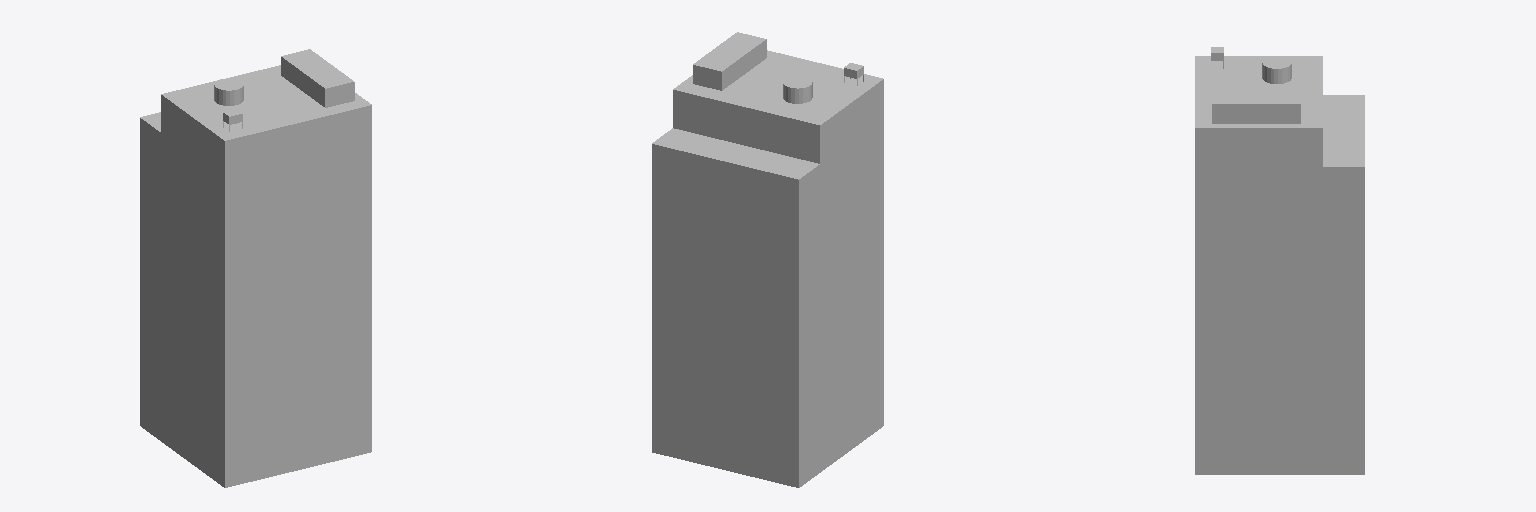
The model's file is highrise-4.obj.
The picture shows the model from 3 angles: view 1: azimuth 30°, elevation 25°; view 2: azimuth 150°, elevation 25°; view 3: azimuth 270°, elevation 25°; orthographic projection.
Visible parts, largest first — view 1: Mesh.022_SketchUp_ID2.003, Mesh.020_SketchUp.006_ID2.002, Mesh.003_SketchUp_ID2, Mesh.021_SketchUp.001_ID10.003, Mesh.016_SketchUp.004_ID2.000, Mesh.023_SketchUp.003_ID22.002; view 2: Mesh.003_SketchUp_ID2, Mesh.022_SketchUp_ID2.003, Mesh.016_SketchUp.004_ID2.000, Mesh.020_SketchUp.006_ID2.002, Mesh.021_SketchUp.001_ID10.003, Mesh.023_SketchUp.003_ID22.002; view 3: Mesh.022_SketchUp_ID2.003, Mesh.003_SketchUp_ID2, Mesh.020_SketchUp.006_ID2.002, Mesh.021_SketchUp.001_ID10.003, Mesh.023_SketchUp.003_ID22.002.
Boxes of the visible parts, box(x1,y1,x2,y2) form: Mesh.022_SketchUp_ID2.003: box(161, 65, 371, 487); Mesh.020_SketchUp.006_ID2.002: box(140, 221, 371, 487); Mesh.003_SketchUp_ID2: box(140, 112, 371, 486); Mesh.021_SketchUp.001_ID10.003: box(281, 49, 354, 107); Mesh.016_SketchUp.004_ID2.000: box(140, 201, 181, 456); Mesh.023_SketchUp.003_ID22.002: box(214, 78, 243, 105); Mesh.003_SketchUp_ID2: box(652, 120, 883, 487); Mesh.022_SketchUp_ID2.003: box(673, 50, 883, 436); Mesh.016_SketchUp.004_ID2.000: box(725, 233, 841, 486); Mesh.020_SketchUp.006_ID2.002: box(725, 319, 883, 487); Mesh.021_SketchUp.001_ID10.003: box(693, 32, 766, 90); Mesh.023_SketchUp.003_ID22.002: box(783, 76, 812, 103); Mesh.022_SketchUp_ID2.003: box(1195, 56, 1322, 474); Mesh.003_SketchUp_ID2: box(1195, 95, 1364, 474); Mesh.020_SketchUp.006_ID2.002: box(1195, 244, 1279, 474); Mesh.021_SketchUp.001_ID10.003: box(1212, 90, 1300, 123); Mesh.023_SketchUp.003_ID22.002: box(1262, 56, 1291, 83).
Size of the model in its own units: 788 by 1871 by 788.